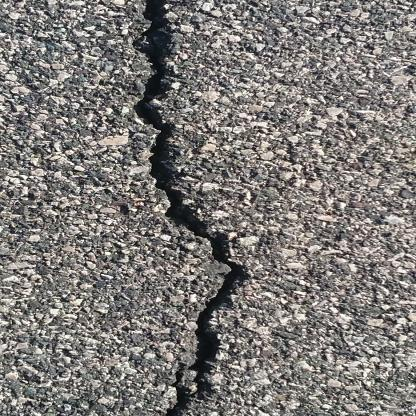Cracks: (131, 0, 250, 416)
